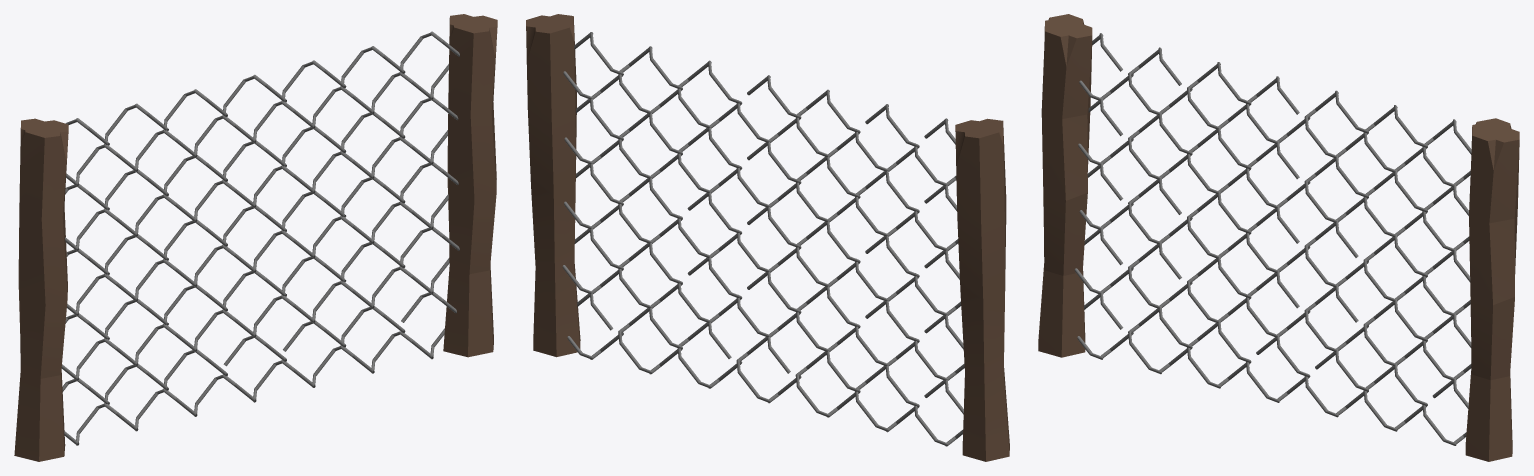
The model's file is FenceGrill2.fbx.
3 views of the same model, side by side, from view 1: azimuth 30°, elevation 25°; view 2: azimuth 150°, elevation 25°; view 3: azimuth 330°, elevation 25° (orthographic).
Visible parts, largest first — view 1: Fence; view 2: Fence; view 3: Fence.
Part boxes in pixels (box(x1,y1,x2,y2)): Fence: box(14, 14, 497, 461); Fence: box(526, 14, 1009, 461); Fence: box(1038, 14, 1519, 461).
Size of the model in its own units: 8.94 by 5.81 by 0.8103.
